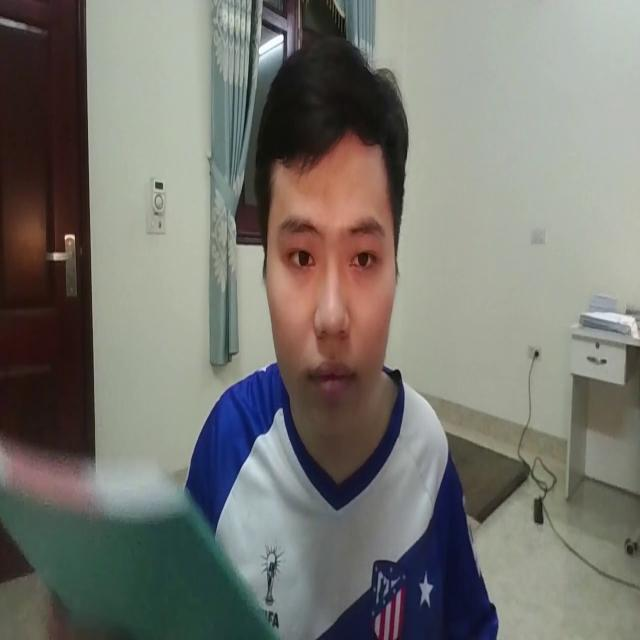book: (0, 419, 283, 640)
student: (174, 19, 511, 640)
